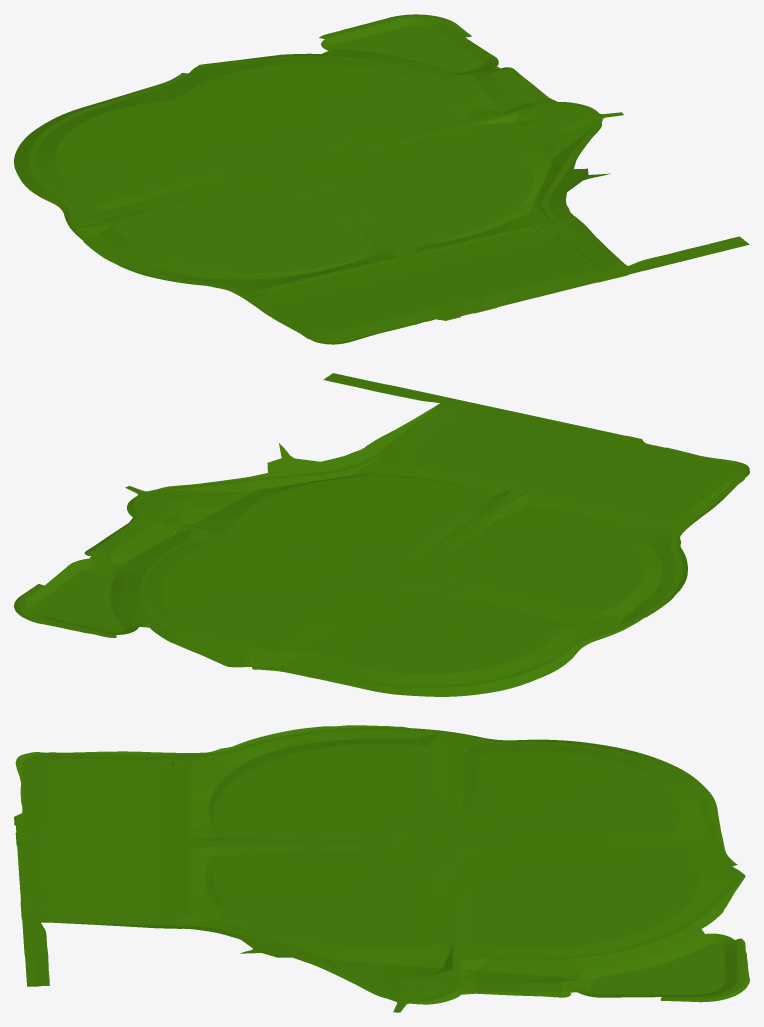
3 renders of one model, top to bottom at view 1: azimuth 30°, elevation 25°; view 2: azimuth 150°, elevation 25°; view 3: azimuth 270°, elevation 25°, orthographic. The views are drawn at different scales.
Visible parts, largest first — view 1: 541; view 2: 541; view 3: 541.
Boxes of the visible parts, x1,y1,x2,y2 form: 541: [14, 14, 749, 344]; 541: [14, 373, 749, 696]; 541: [14, 725, 749, 1012].
Size of the model in its own units: 288 by 9.96 by 312.
